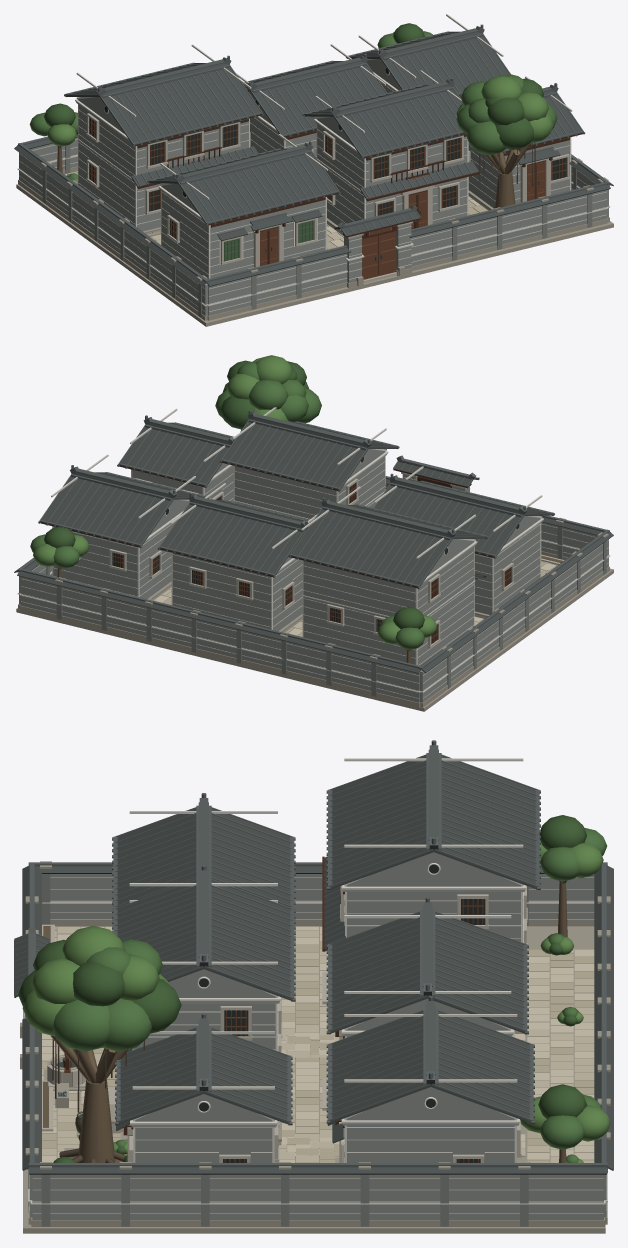
3 views of the same model, one above another, from view 1: azimuth 30°, elevation 25°; view 2: azimuth 150°, elevation 25°; view 3: azimuth 270°, elevation 25° (orthographic). The views are drawn at different scales.
Bounding box in the file's own units: 1.2 × 0.4292 × 0.9827.
